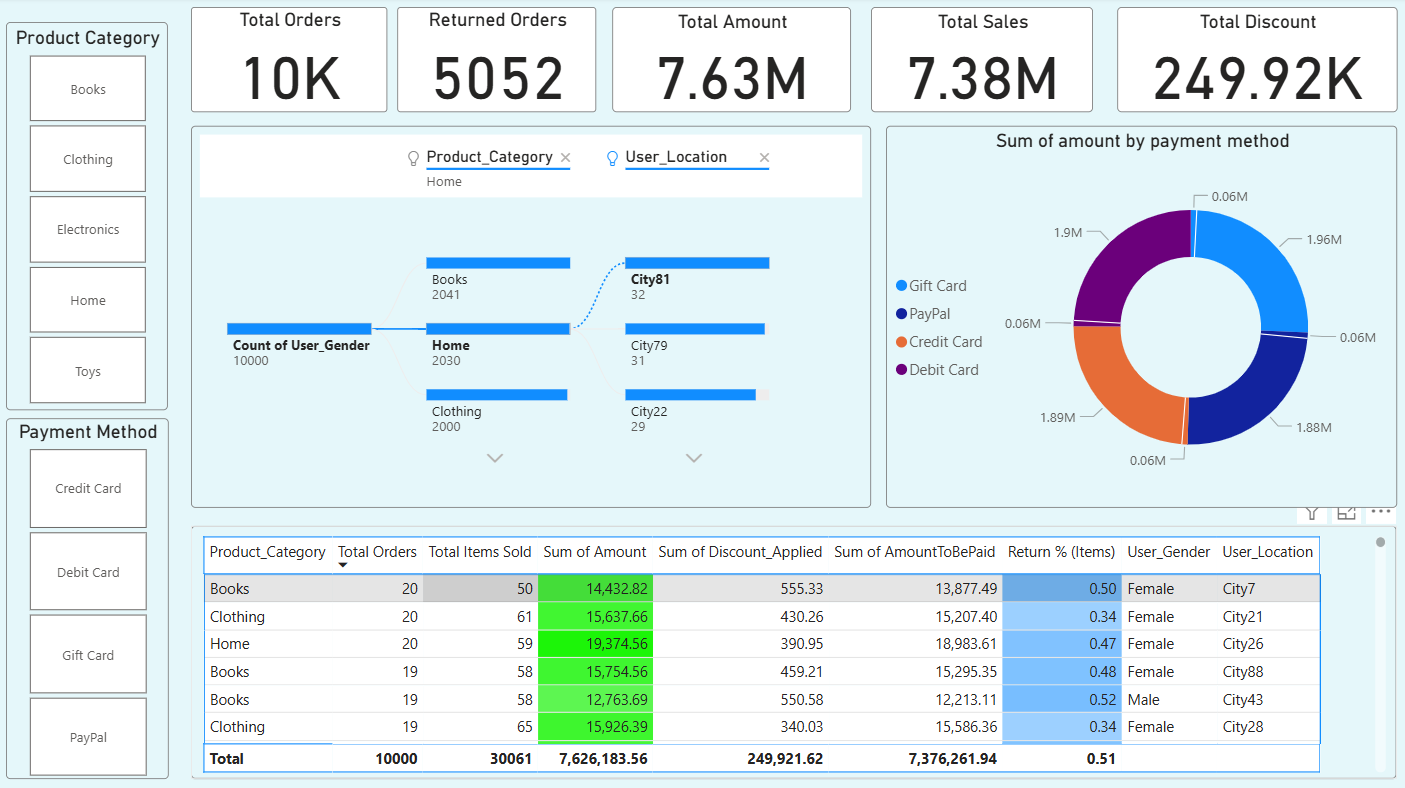

What the dashboard file says about the page in this screenshot:
{"tool":"powerbi","page":{"name":"Page 1","canvas":[1280,720],"ordinal":0},"visuals":[{"type":"card","title":"Total Orders","fields":{"Values":["ecommerce_returns_synthetic_data.Total Orders"]},"box":[176.7,9.3,177.9,95.3],"z":0},{"type":"slicer","title":"Product Category","fields":{"Values":["ecommerce_returns_synthetic_data.Product_Category"]},"box":[9.3,22.1,146.5,351.2],"z":1000},{"type":"card","title":"Returned Orders","fields":{"Values":["ecommerce_returns_synthetic_data.Returned Orders"]},"box":[362.8,9.3,180.2,95.3],"z":2000},{"type":"card","title":"Total Amount","fields":{"Values":["Sum(ecommerce_returns_synthetic_data.Amount)"]},"box":[557,9.3,216.3,95.3],"z":3000},{"type":"card","title":"Total Discount","fields":{"Values":["Sum(ecommerce_returns_synthetic_data.Discount_Applied)"]},"box":[1014,9.3,253.5,95.3],"z":4000},{"type":"card","title":"Total Sales","fields":{"Values":["Sum(ecommerce_returns_synthetic_data.AmountToBePaid)"]},"box":[791.9,9.3,201.2,95.3],"z":5000},{"type":"slicer","title":"Payment Method","fields":{"Values":["ecommerce_returns_synthetic_data.Payment_Method"]},"box":[9.3,381.4,146.5,338.4],"z":6000},{"type":"tableEx","fields":{"Values":["ecommerce_returns_synthetic_data.Product_Category","ecommerce_returns_synthetic_data.Total Orders","ecommerce_returns_synthetic_data.Total Items Sold","Sum(ecommerce_returns_synthetic_data.Amount)","Sum(ecommerce_returns_synthetic_data.Discount_Applied)","Sum(ecommerce_returns_synthetic_data.AmountToBePaid)","ecommerce_returns_synthetic_data.Return % (Items)","ecommerce_returns_synthetic_data.User_Gender","ecommerce_returns_synthetic_data.User_Location"]},"box":[176.7,477.9,1090.7,229.1],"z":7000},{"type":"donutChart","title":"Sum of amount by payment method","fields":{"Y":["Sum(ecommerce_returns_synthetic_data.Discount_Applied)","Sum(ecommerce_returns_synthetic_data.Amount)"],"Category":["ecommerce_returns_synthetic_data.Payment_Method"]},"box":[804.7,116.3,462.8,345.3],"z":8000},{"type":"decompositionTreeVisual","fields":{"Analyze":["CountNonNull(ecommerce_returns_synthetic_data.User_Gender)"],"ExplainBy":["ecommerce_returns_synthetic_data.Product_Category","ecommerce_returns_synthetic_data.User_Location"]},"box":[176.7,116.3,615.1,345.3],"z":9000}]}

Visuals, with their boxes in screenshot pixels (x1, y1, x2, y2), scaled from the page's 1280x720 canvas onto the 1405x788 screenshot:
"Total Orders" card: 194:10:389:114
"Product Category" slicer: 10:24:171:409
"Returned Orders" card: 398:10:596:114
"Total Amount" card: 611:10:849:114
"Total Discount" card: 1113:10:1391:114
"Total Sales" card: 869:10:1090:114
"Payment Method" slicer: 10:417:171:787
tableEx - ecommerce_returns_synthetic_data.Product_Category x ecommerce_returns_synthetic_data.Total Orders: 194:523:1391:774
"Sum of amount by payment method" donutChart: 883:127:1391:505
decompositionTreeVisual - CountNonNull(ecommerce_returns_synthetic_data.User_Gender) x ecommerce_returns_synthetic_data.Product_Category: 194:127:869:505
